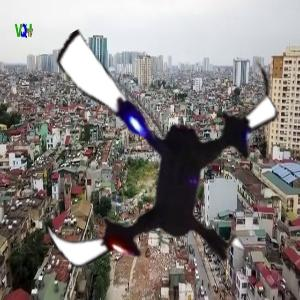drone: (8, 10, 298, 300)
